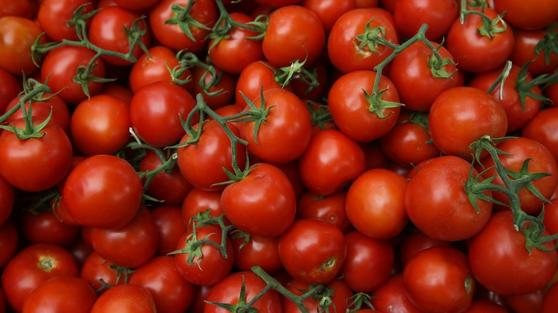tomato: (406, 153, 492, 226), (63, 153, 139, 231), (480, 209, 548, 292), (324, 68, 402, 138), (238, 86, 308, 162), (342, 171, 418, 240), (403, 240, 475, 306), (227, 164, 296, 231), (130, 82, 195, 141), (174, 222, 233, 285), (336, 10, 396, 71), (272, 10, 327, 67)
